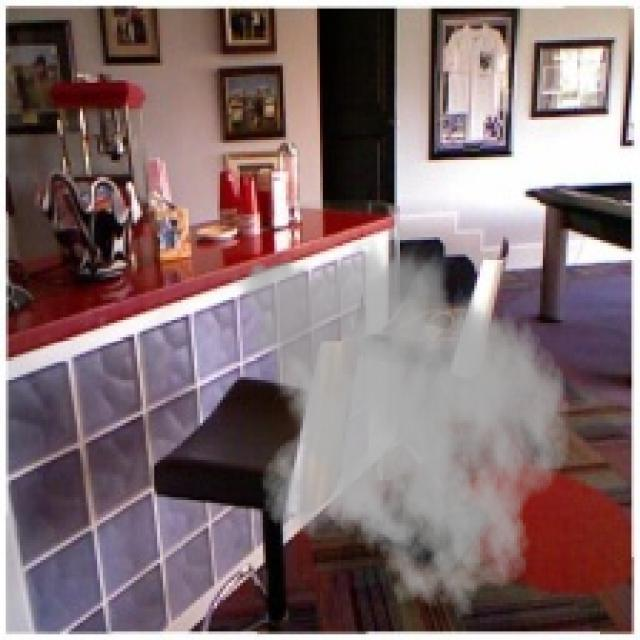Smoke: (226, 237, 572, 620)
